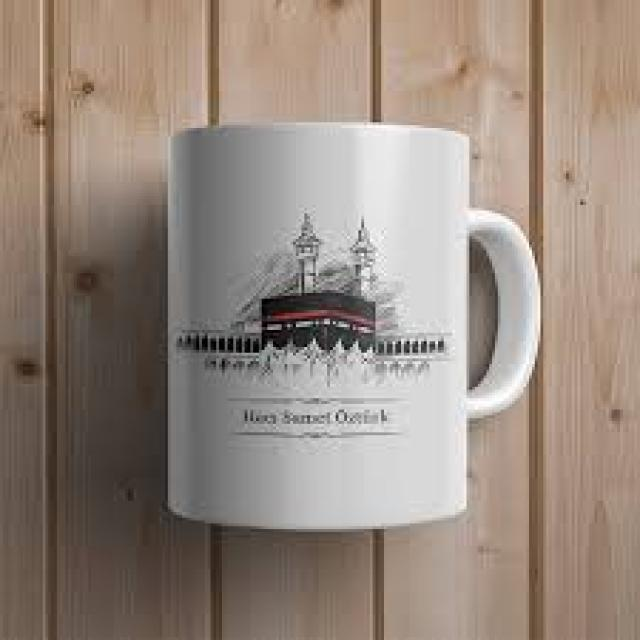taza: (166, 120, 542, 532)
